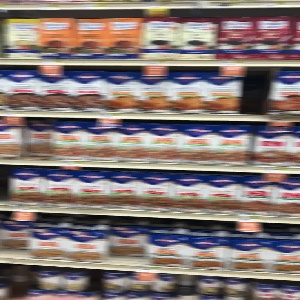void: (235, 68, 272, 120)
